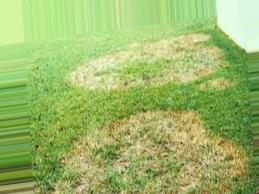patch: (135, 126, 200, 186), (204, 136, 237, 177), (71, 163, 110, 180), (78, 67, 114, 85), (116, 159, 131, 179), (75, 145, 98, 156), (141, 48, 171, 55), (126, 80, 144, 89), (178, 71, 193, 80), (100, 58, 115, 64)
